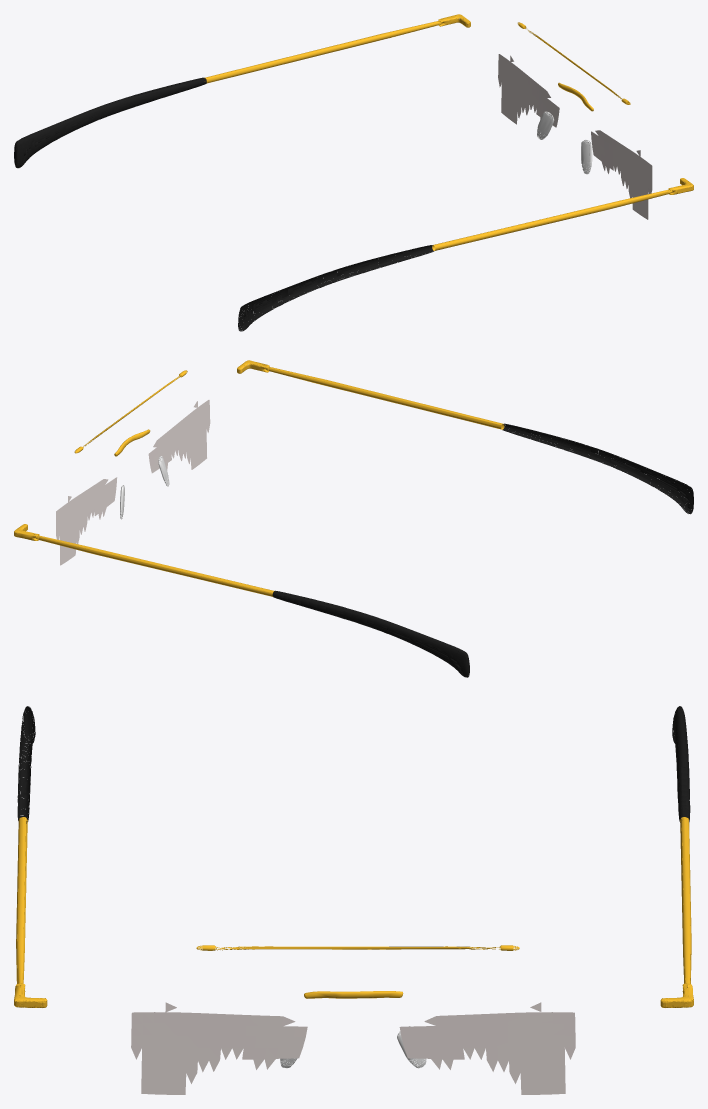
File: Plaquetas2_1.fbx
The picture shows the model from 3 angles, top to bottom: view 1: azimuth 30°, elevation 25°; view 2: azimuth 150°, elevation 25°; view 3: azimuth 270°, elevation 25°; orthographic projection. The views are drawn at different scales.
Parts seen in each view (by area): view 1: Frame, Lens; view 2: Frame, Lens; view 3: Lens, Frame.
Boxes of the visible parts, left/top/right/bottom form: Frame: left=14, top=14, right=693, bottom=331; Lens: left=498, top=54, right=652, bottom=219; Frame: left=14, top=360, right=693, bottom=677; Lens: left=56, top=400, right=210, bottom=565; Lens: left=131, top=1002, right=575, bottom=1094; Frame: left=14, top=706, right=693, bottom=1068.
Bounding box in the file's own units: 418 × 90.98 × 375.
